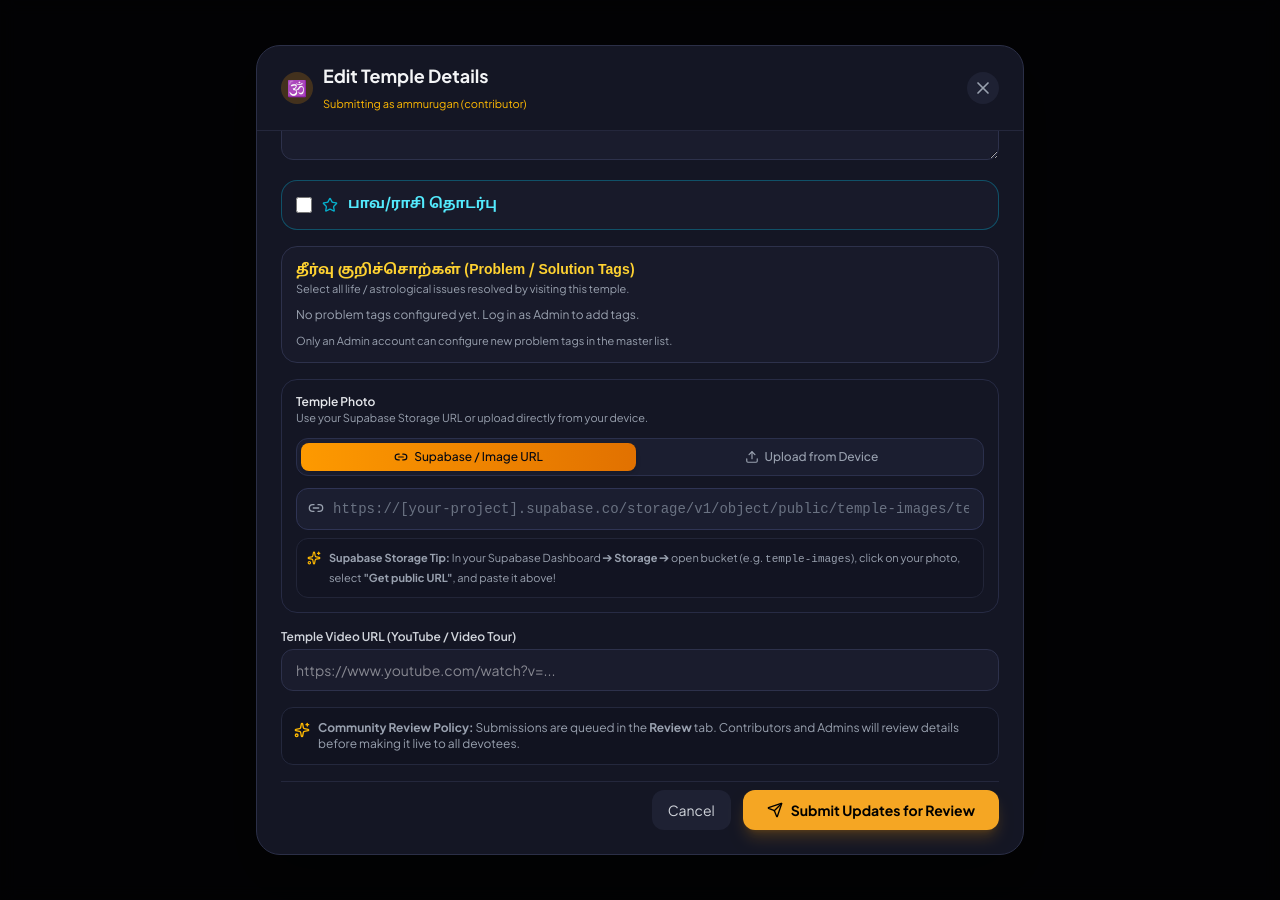
Test case: Phase 2: AddEditTempleModal Edit Persistence & Error Handling › displays an error alert and keeps modal open when submitTemple returns false
(page scrolled)
Click the button "Submit Updates for Review".
click(871, 810)  # box left=743, top=790, right=999, bottom=830
(page scrolled)
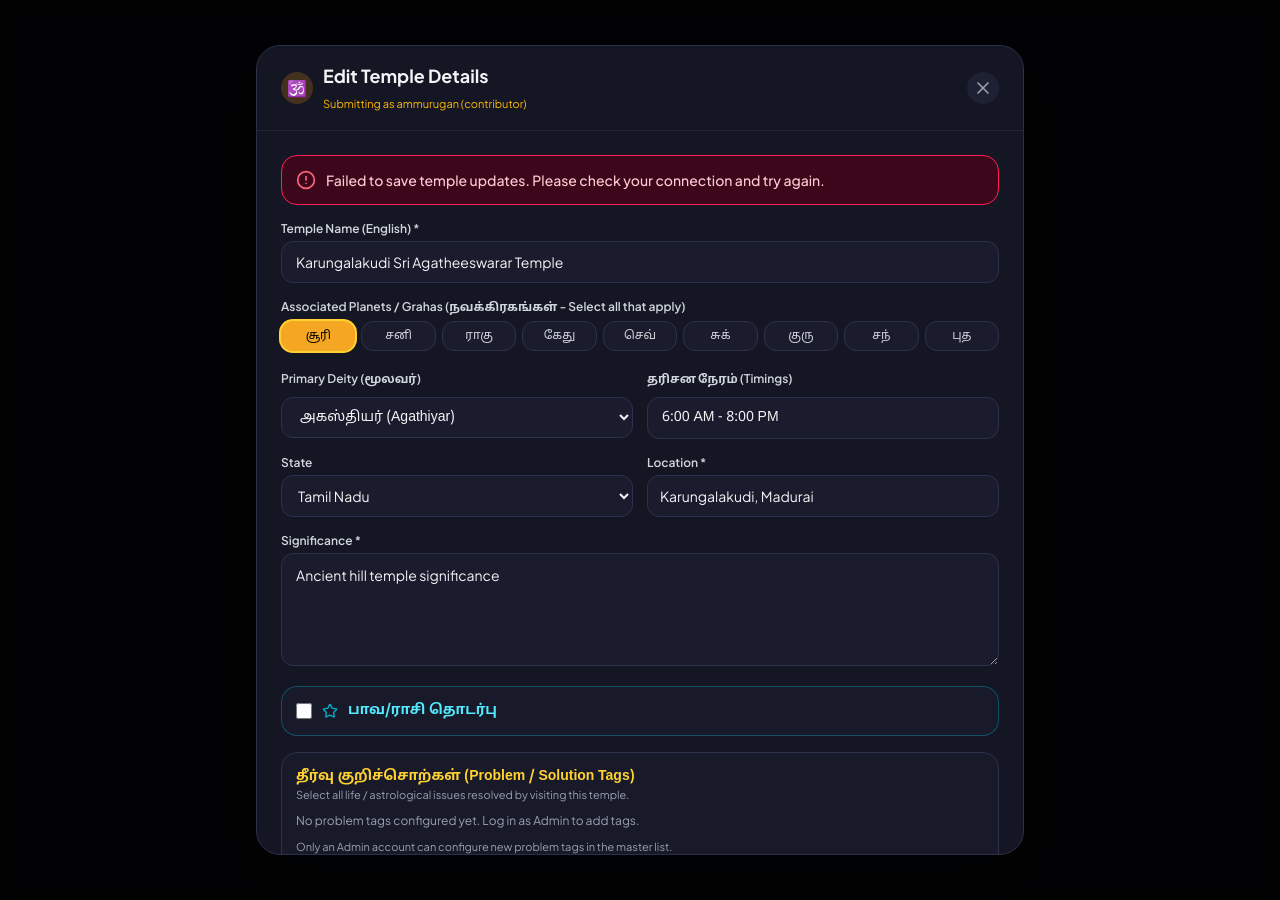
Result: the text "Failed to save temple updates" is shown at left=326, top=171, right=825, bottom=189
